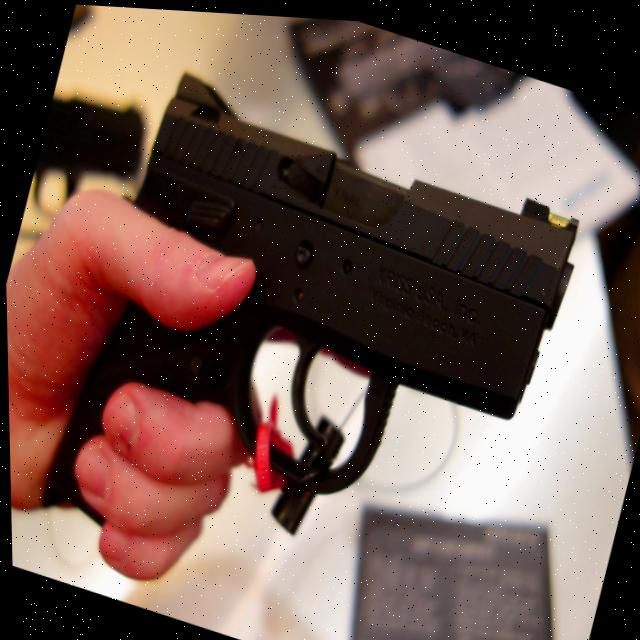pistol: (69, 52, 596, 553), (1, 73, 156, 367)
